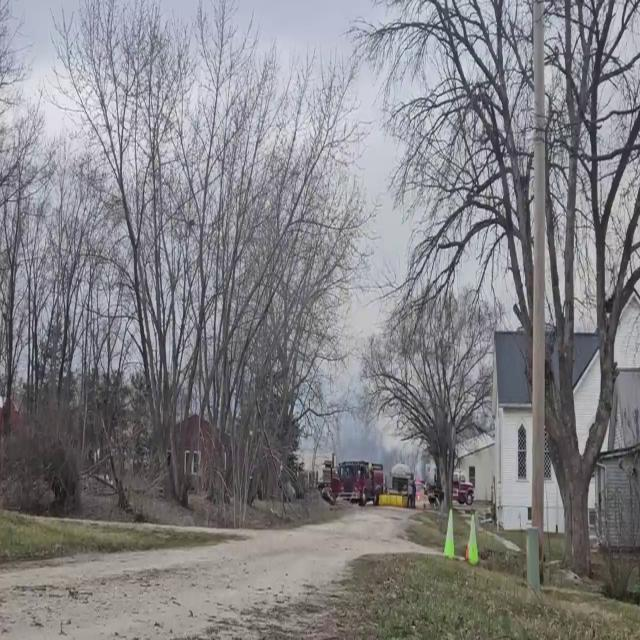Smoke: (292, 335, 426, 478)
